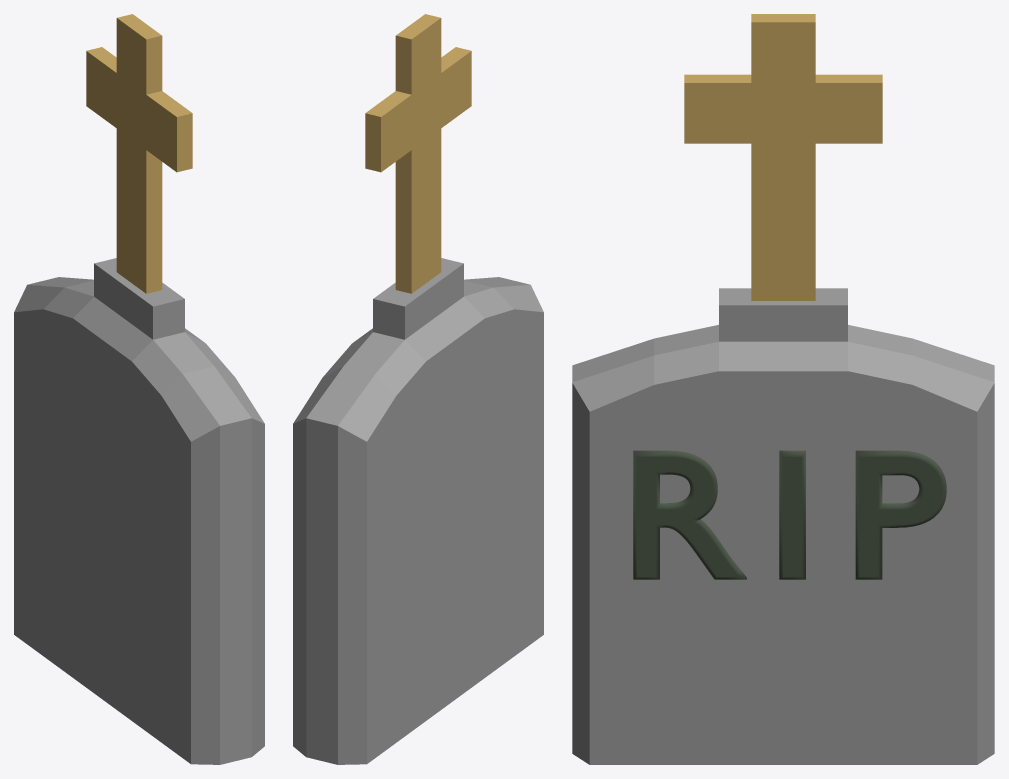
Rendered from Turret Game Environment Tombstone 004.fbx.
The picture shows the model from 3 angles, left to right: view 1: azimuth 30°, elevation 25°; view 2: azimuth 150°, elevation 25°; view 3: azimuth 270°, elevation 25°; orthographic projection. The views are drawn at different scales.
Visible parts, largest first — view 1: Cube; view 2: Cube; view 3: Cube.
Part boxes in pixels (x1=…): Cube: x1=14, y1=14, x2=264, y2=764; Cube: x1=293, y1=14, x2=543, y2=764; Cube: x1=572, y1=14, x2=994, y2=764.
Bounding box in the file's own units: 150 × 1200 × 632.
